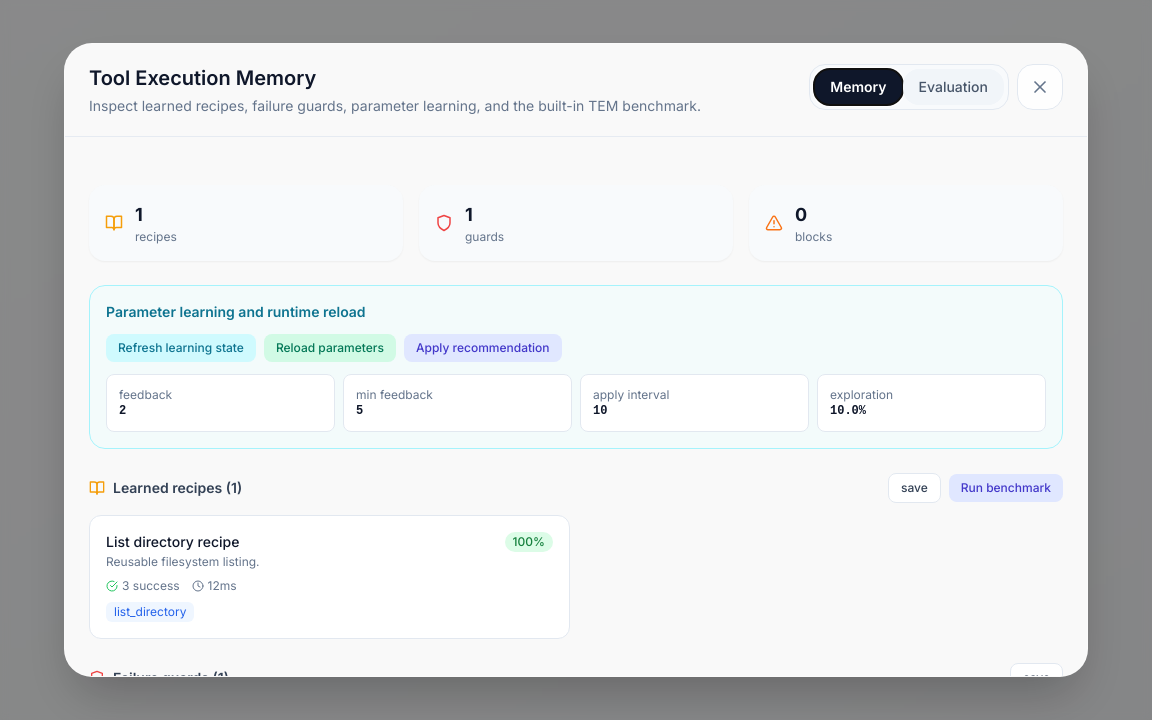
Test: TEMPanel › renders learned memory and switches to Memory Evaluation tab
Expected: the heading "Tool Execution Memory" is shown, [89, 66, 316, 90]
Expected: the text "List directory recipe" is shown, [106, 533, 240, 550]
Step 1. Click the button "Evaluation" → point(953, 87), box [903, 69, 1004, 105]
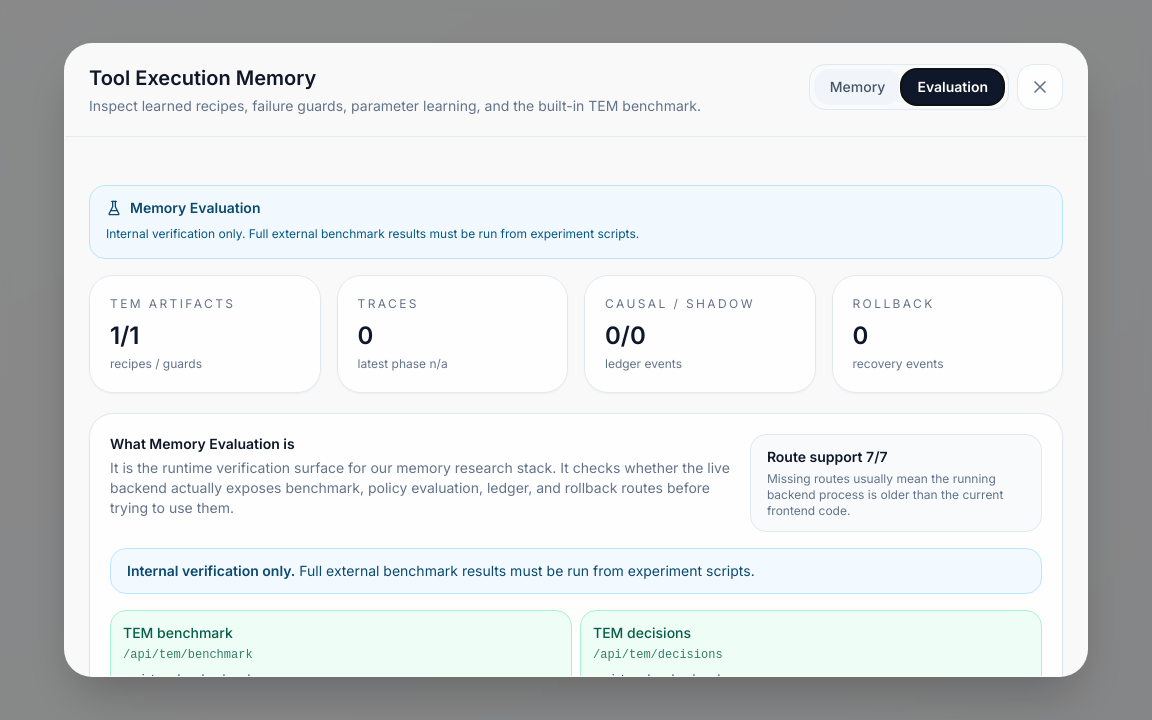
Expected: the text "Memory Evaluation" is shown, [130, 198, 260, 218]
Expected: the text "Internal verification only. Full external benchmark results must be run from experiment scripts." is shown, [106, 226, 639, 241]
